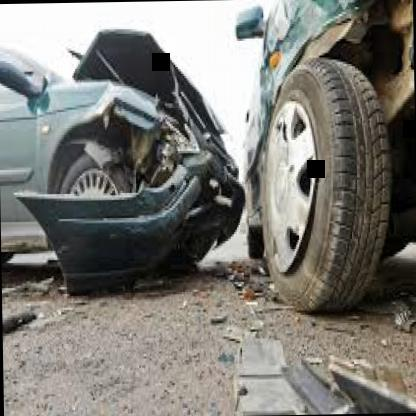accident: (26, 0, 416, 376)
